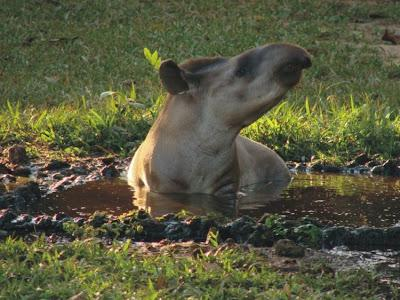Anta: (124, 38, 321, 202)
